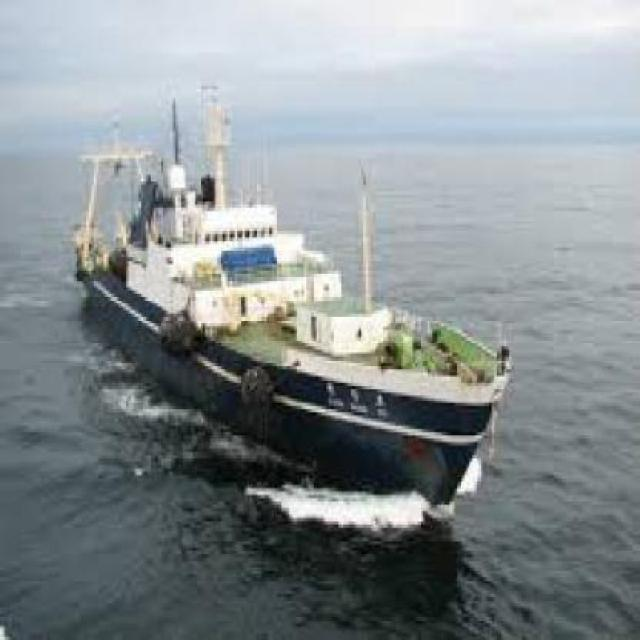fish-b: (58, 74, 530, 523)
